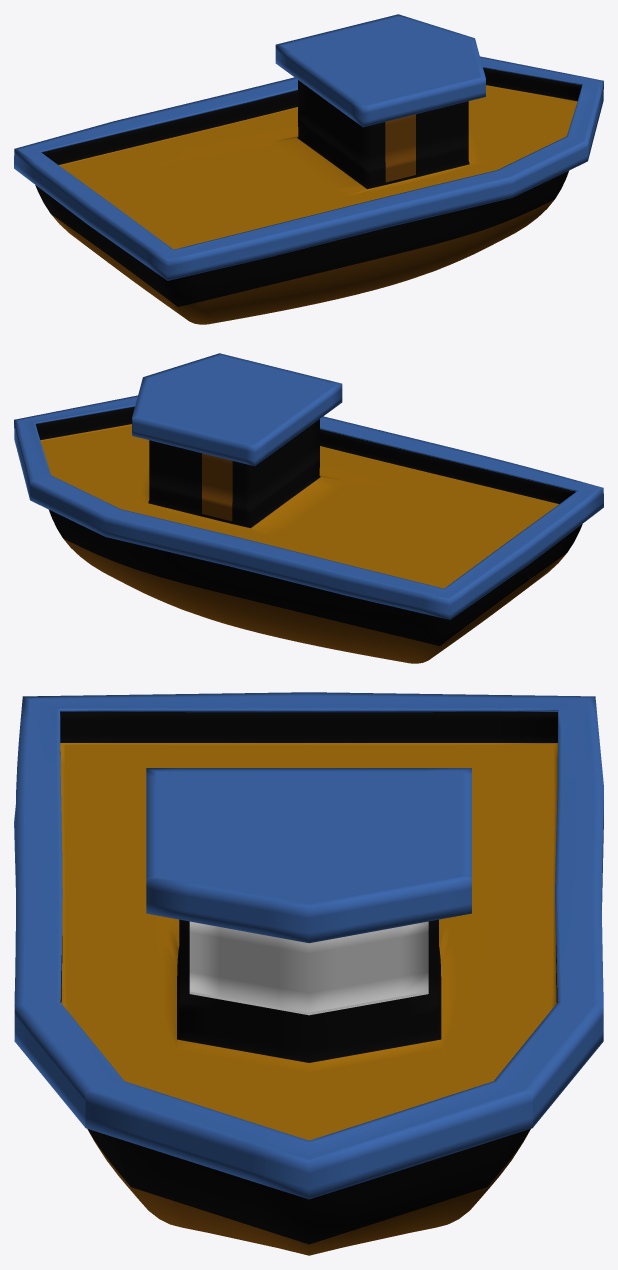
The model's file is LVL 2 BOAT.fbx.
3 views of the same model, one above another, from view 1: azimuth 30°, elevation 25°; view 2: azimuth 150°, elevation 25°; view 3: azimuth 270°, elevation 25° (orthographic). The views are drawn at different scales.
Visible parts, largest first — view 1: Lvl 2 Boat, Color2 - Boat accent; view 2: Lvl 2 Boat, Color2 - Boat accent; view 3: Lvl 2 Boat, Color2 - Boat accent.
Part boxes in pixels (bbox=[...]): Lvl 2 Boat: bbox=[35, 68, 582, 324]; Color2 - Boat accent: bbox=[14, 14, 603, 280]; Lvl 2 Boat: bbox=[35, 407, 582, 663]; Color2 - Boat accent: bbox=[14, 353, 603, 619]; Lvl 2 Boat: bbox=[60, 712, 557, 1255]; Color2 - Boat accent: bbox=[14, 692, 603, 1199].
Bounding box in the file's own units: 376 × 140 × 200.
